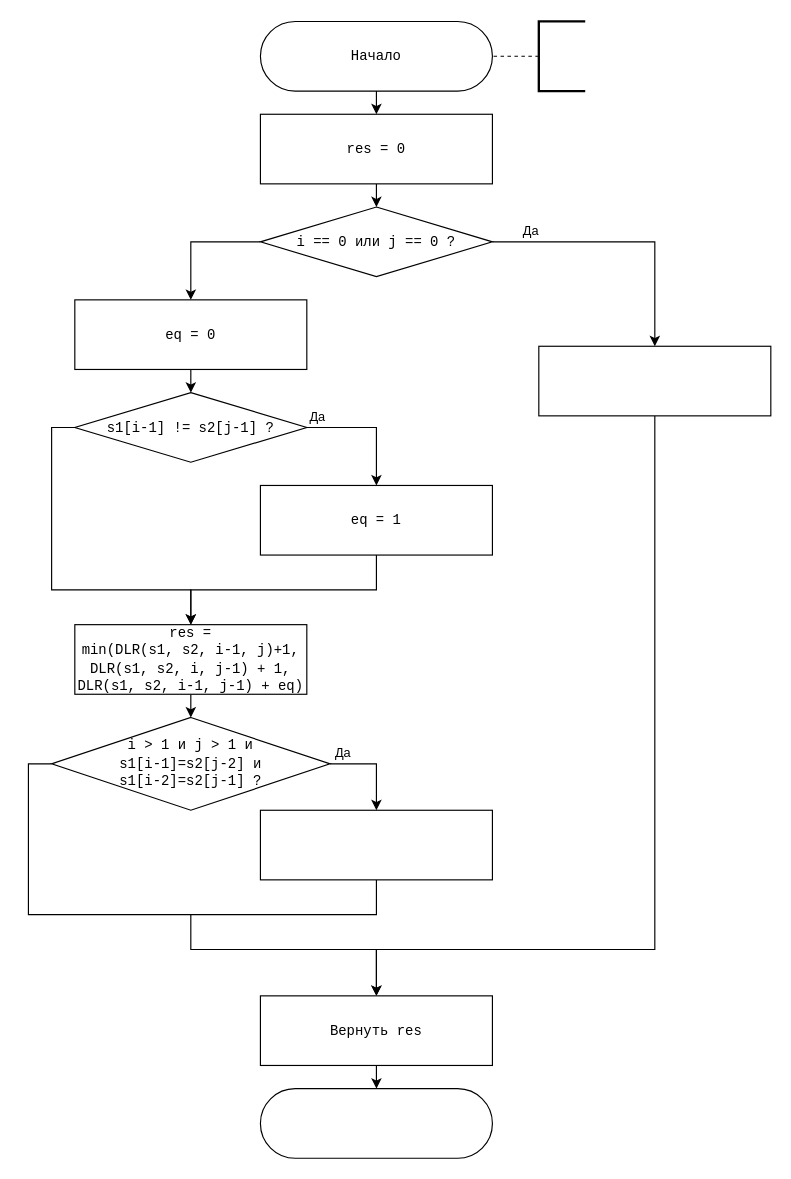
Some shapes in this 791 by 1179 pixel diagram are drawn without their labels. The box of each missing label's shape, as (x1, y1, x2, y2) in pixels:
damerau_levenshtein_rec(s1, s2, i, j) далее - DLR(s1, s2, i, j): (537, 20, 586, 92)
res = abs(i - j): (538, 345, 771, 416)
res = min(res, DLR(s1, s2, i-2, j-2) + 1): (259, 809, 492, 880)
Конец: (259, 1088, 492, 1158)
